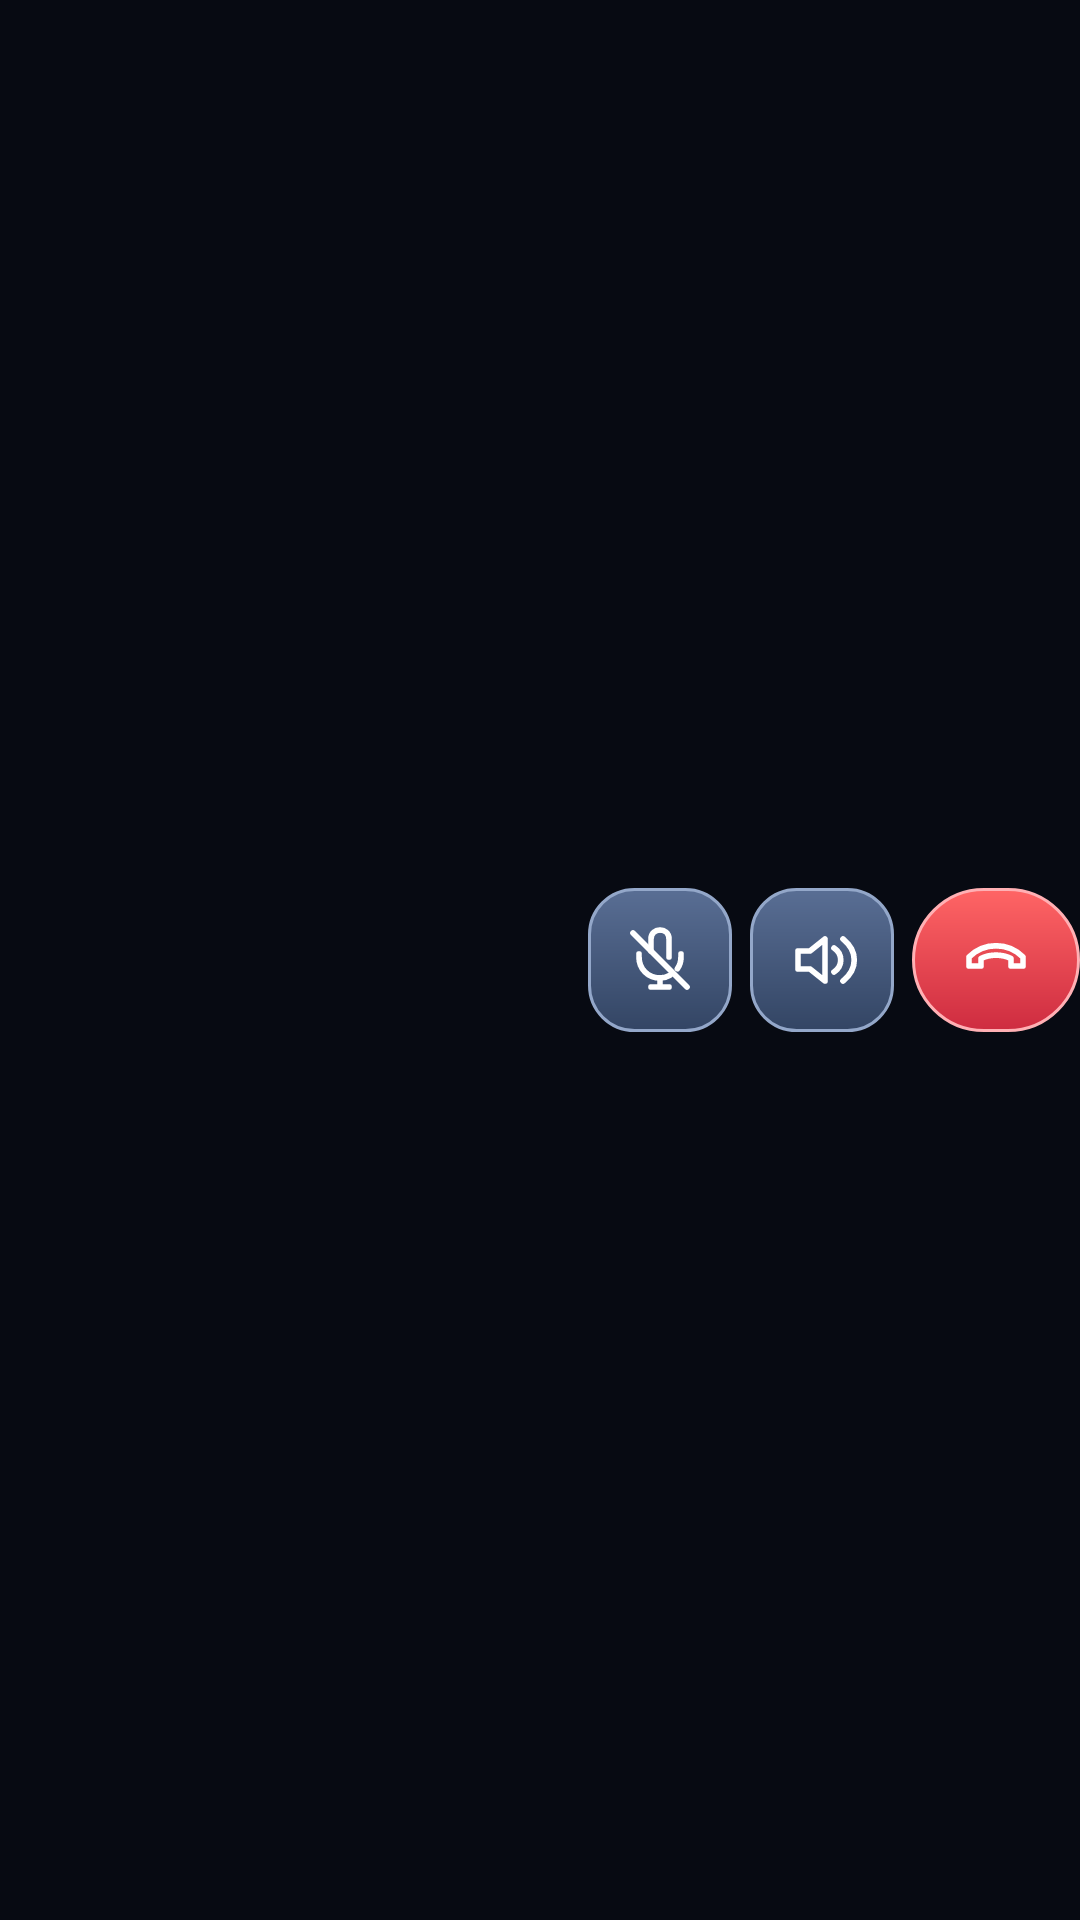

Point at icon controls on the screen. Image size 1080px x 1920px, points as (x,y).
Call kaato: (996,960)
Mute: (660,960)
Speaker: (822,960)
